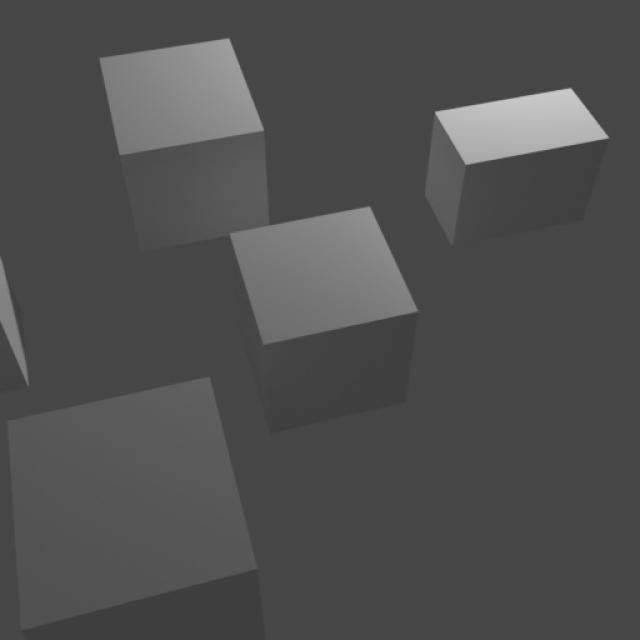Cube: (5, 377, 264, 640), (231, 205, 418, 432), (99, 38, 270, 251), (424, 88, 606, 246), (0, 259, 27, 394)
